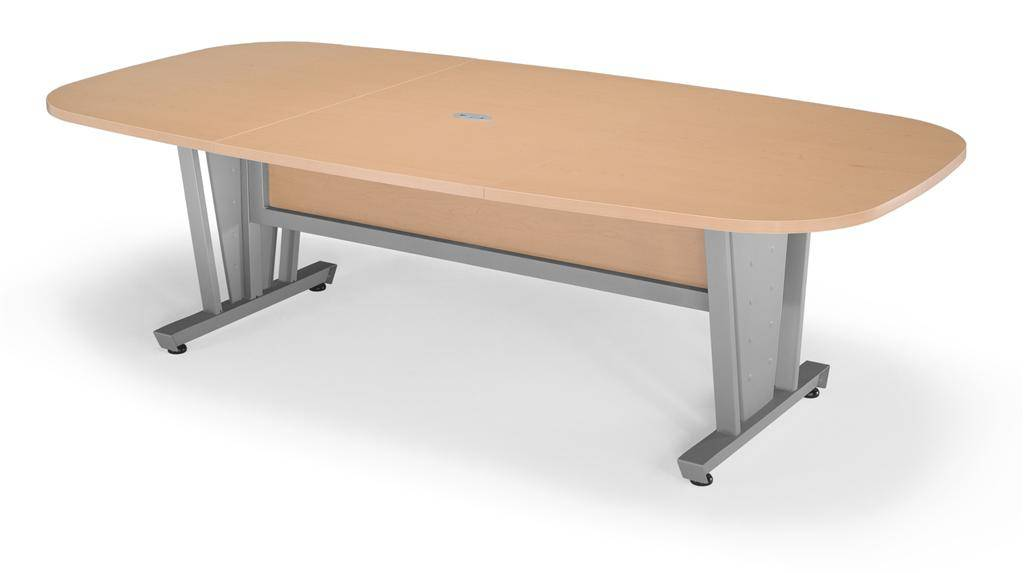conference_table: (45, 40, 967, 486)
